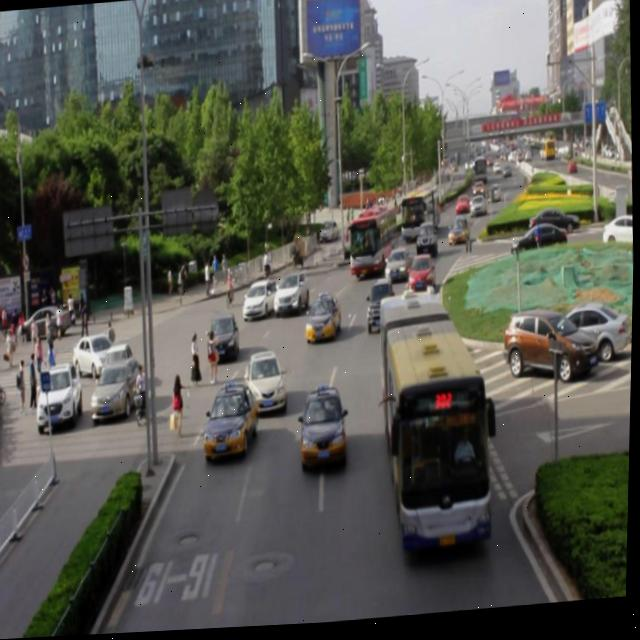car: (204, 383, 259, 461), (301, 388, 348, 471), (244, 350, 288, 418), (381, 306, 418, 370), (272, 268, 310, 319), (304, 294, 342, 345), (366, 279, 397, 333), (208, 313, 240, 365), (242, 279, 277, 319), (407, 256, 436, 297), (385, 249, 411, 284), (416, 223, 438, 259)
van: (377, 295, 496, 554), (346, 207, 398, 280)
